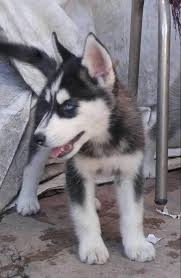husky: (31, 29, 136, 167)
